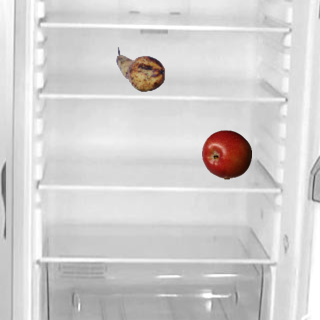Apple Braeburn: (201, 129, 251, 179)
Pear Abate: (115, 44, 165, 94)
